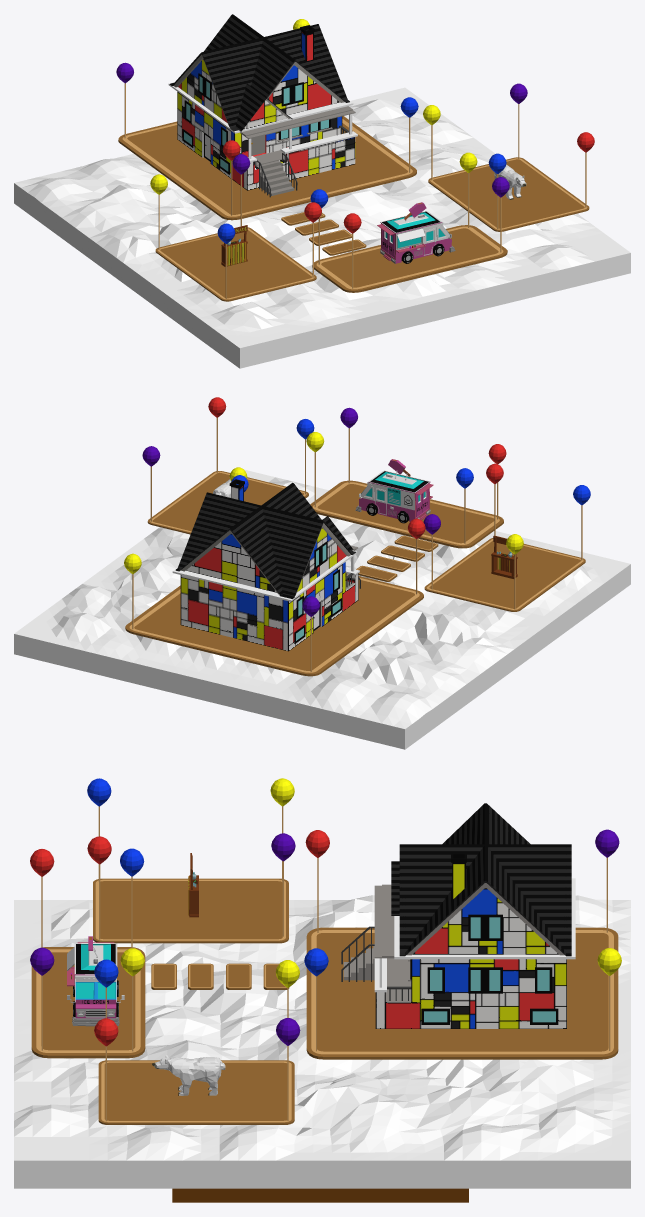
The picture shows the model from 3 angles, top to bottom: view 1: azimuth 30°, elevation 25°; view 2: azimuth 150°, elevation 25°; view 3: azimuth 270°, elevation 25°; orthographic projection. The views are drawn at different scales.
Visible parts, largest first — view 1: Cube.013, Cube.840, VEHICLES_ICE_CREAM_TRUCK, OBJRANDOM_LEMONADE_STAND, ANIMAL_OSO_POLAR; view 2: Cube.013, Cube.840, VEHICLES_ICE_CREAM_TRUCK, OBJRANDOM_LEMONADE_STAND; view 3: Cube.013, Cube.840, UNDERGROUND_ART_PIECE_VAN_GOGH, VEHICLES_ICE_CREAM_TRUCK, ANIMAL_OSO_POLAR.
Part boxes in pixels (bbox=[...]): Cube.013: bbox=[14, 19, 630, 368]; Cube.840: bbox=[168, 14, 357, 197]; VEHICLES_ICE_CREAM_TRUCK: bbox=[377, 202, 455, 263]; OBJRANDOM_LEMONADE_STAND: bbox=[221, 225, 247, 266]; ANIMAL_OSO_POLAR: bbox=[494, 164, 526, 199]; Cube.013: bbox=[14, 397, 630, 749]; Cube.840: bbox=[172, 479, 360, 651]; VEHICLES_ICE_CREAM_TRUCK: bbox=[355, 459, 433, 523]; OBJRANDOM_LEMONADE_STAND: bbox=[491, 535, 517, 578]; Cube.013: bbox=[14, 778, 630, 1188]; Cube.840: bbox=[341, 803, 575, 1028]; UNDERGROUND_ART_PIECE_VAN_GOGH: bbox=[172, 1188, 468, 1202]; VEHICLES_ICE_CREAM_TRUCK: bbox=[67, 936, 124, 1026]; ANIMAL_OSO_POLAR: bbox=[152, 1055, 225, 1095].
Size of the model in its own units: 4000 by 1817 by 4000.
Materials: 44 (3 with a texture image).
